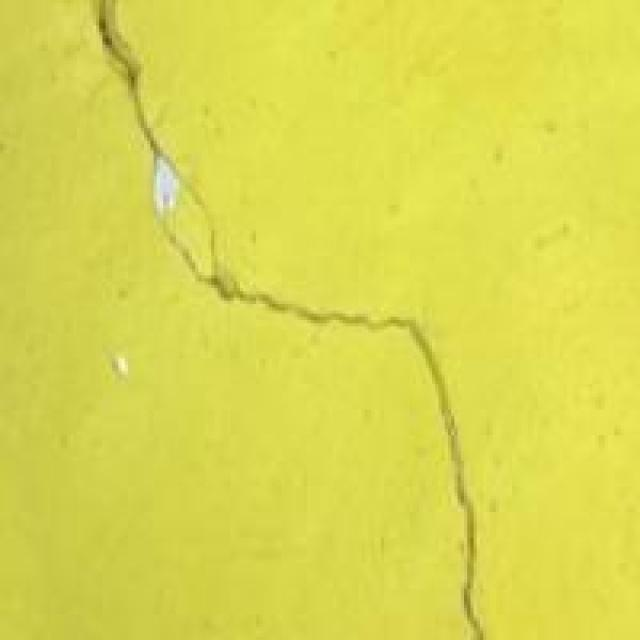Crack: (86, 0, 502, 637)
